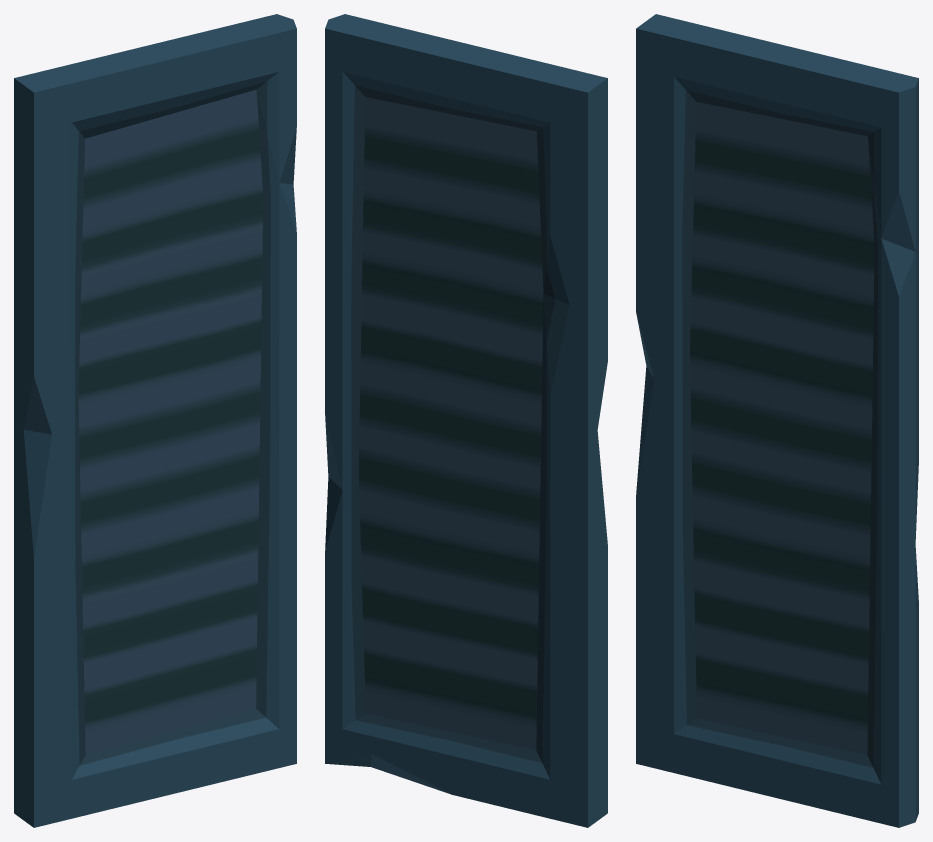
The model's file is SM_Bld_Village_Window_Shutter_L_01.fbx.
The picture shows the model from 3 angles, left to right: view 1: azimuth 30°, elevation 25°; view 2: azimuth 150°, elevation 25°; view 3: azimuth 330°, elevation 25°; orthographic projection.
Visible parts, largest first — view 1: SM_Bld_Village_Window_Shutter_L_01; view 2: SM_Bld_Village_Window_Shutter_L_01; view 3: SM_Bld_Village_Window_Shutter_L_01.
Part boxes in pixels (bbox=[...]): SM_Bld_Village_Window_Shutter_L_01: bbox=[14, 14, 296, 827]; SM_Bld_Village_Window_Shutter_L_01: bbox=[325, 14, 607, 827]; SM_Bld_Village_Window_Shutter_L_01: bbox=[636, 14, 918, 827].
Size of the model in its own units: 68.88 by 180 by 8.79.
